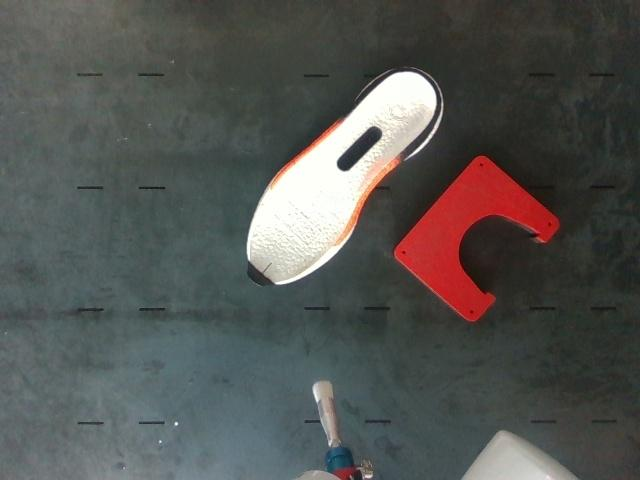shoes: (248, 71, 437, 285)
